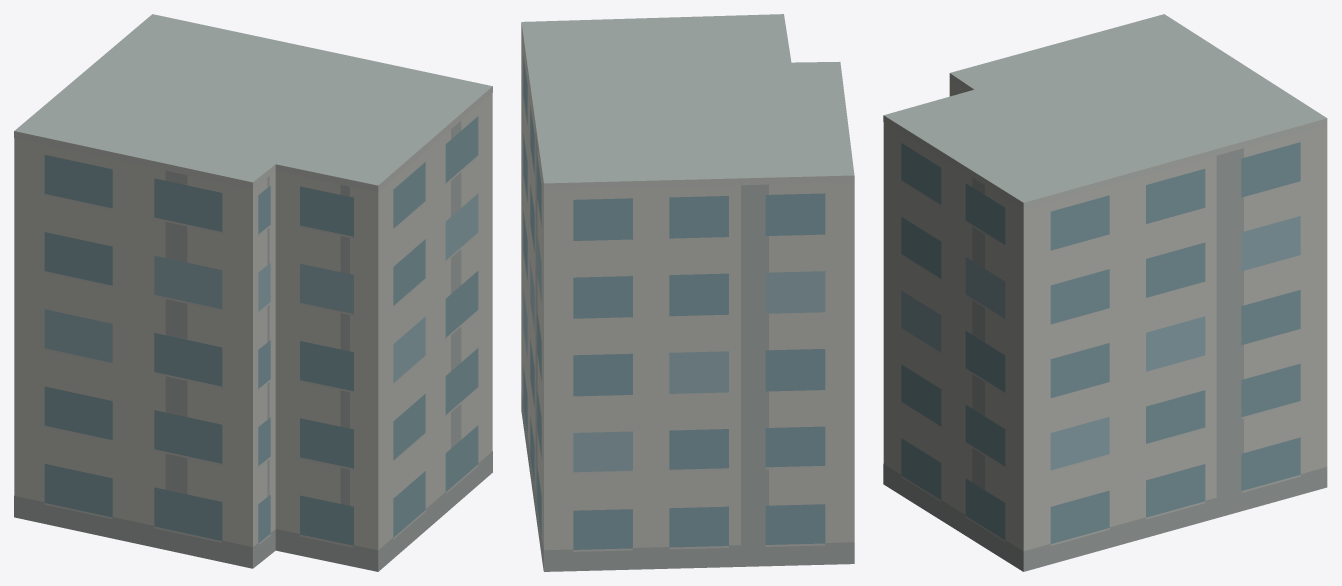
The model's file is survey-upis-32949509.glb.
3 renders of one model, left to right at view 1: azimuth 30°, elevation 25°; view 2: azimuth 150°, elevation 25°; view 3: azimuth 270°, elevation 25°, orthographic. The views are drawn at different scales.
Visible parts, largest first — view 1: survey-upis-32949509.tmp; view 2: survey-upis-32949509.tmp; view 3: survey-upis-32949509.tmp.
Boxes of the visible parts, <box> form: survey-upis-32949509.tmp: <box>14,14,492,571</box>; survey-upis-32949509.tmp: <box>521,14,854,571</box>; survey-upis-32949509.tmp: <box>883,14,1327,571</box>.
Size of the model in its own units: 14.93 by 13.6 by 14.83.
